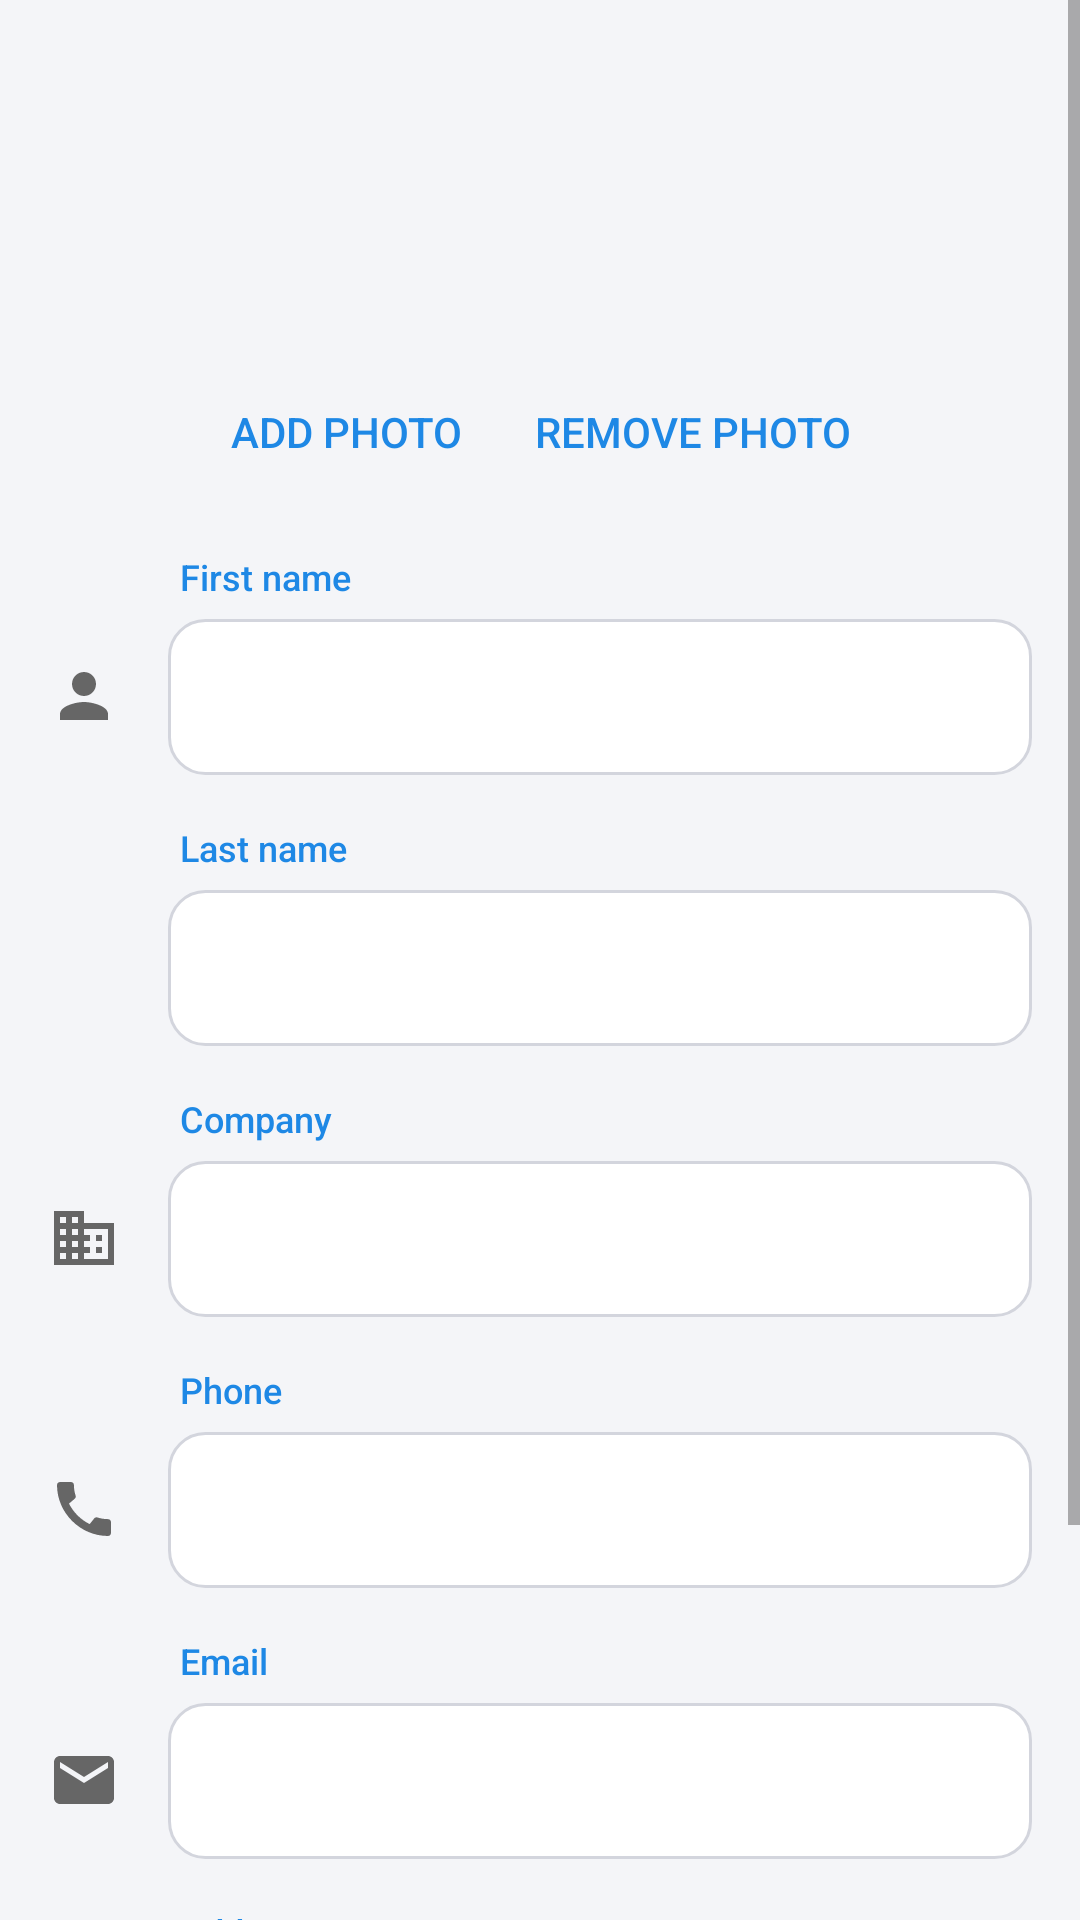

Where icons sit on this 1080x1920 app screen, as (x1,y1,x2,y2):
business: (54,1211,114,1265)
call: (57,1482,111,1536)
person: (60,672,108,720)
